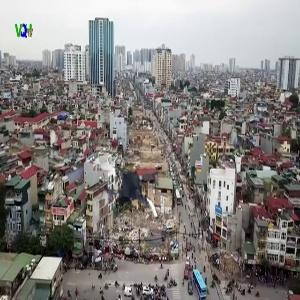drone: (93, 155, 178, 240)
